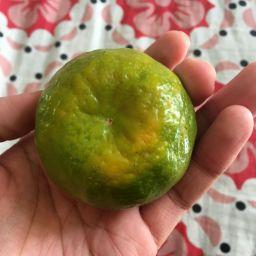Unripe: (35, 49, 196, 205)
